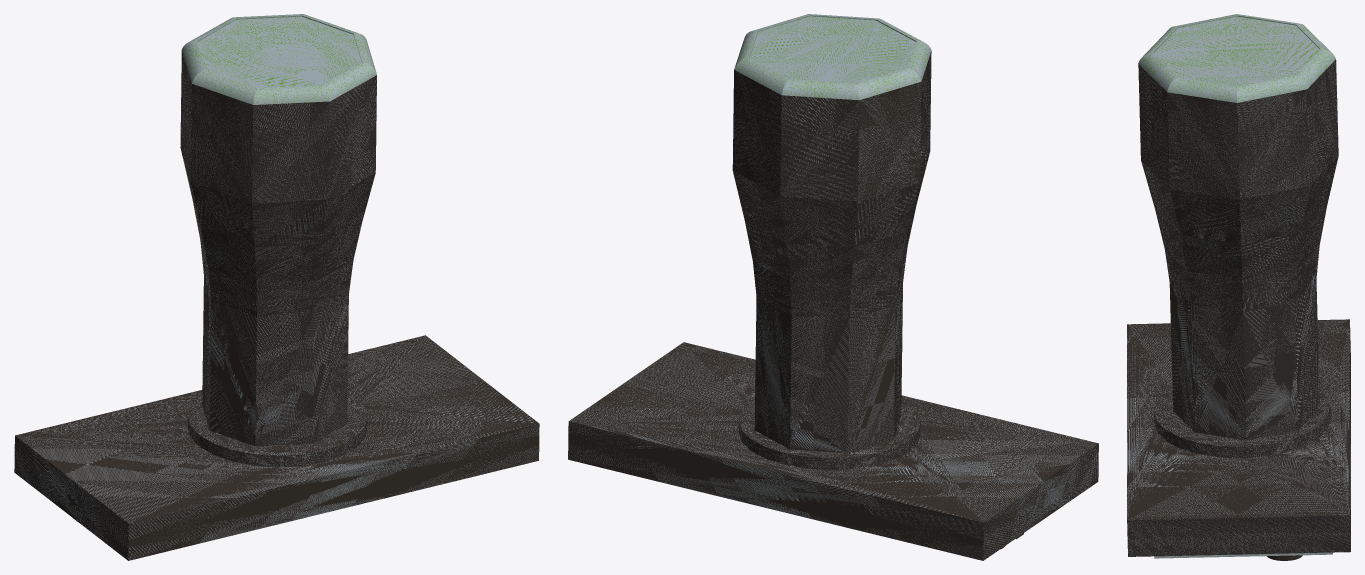
Rendered from RubberStamp.fbx.
The picture shows the model from 3 angles, left to right: view 1: azimuth 30°, elevation 25°; view 2: azimuth 150°, elevation 25°; view 3: azimuth 270°, elevation 25°; orthographic projection. The views are drawn at different scales.
Visible parts, largest first — view 1: Group1; view 2: Group1; view 3: Group1.
Part boxes in pixels (box(x1,y1,x2,y2)): Group1: box(14, 14, 539, 560); Group1: box(568, 14, 1098, 560); Group1: box(1127, 14, 1350, 558).
Size of the model in its own units: 0.06 by 0.06 by 0.029.
